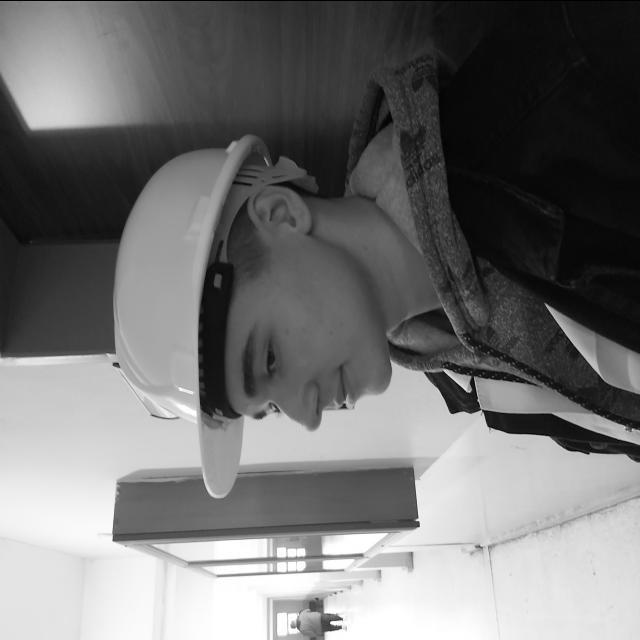safety_helmet: (114, 132, 309, 496)
